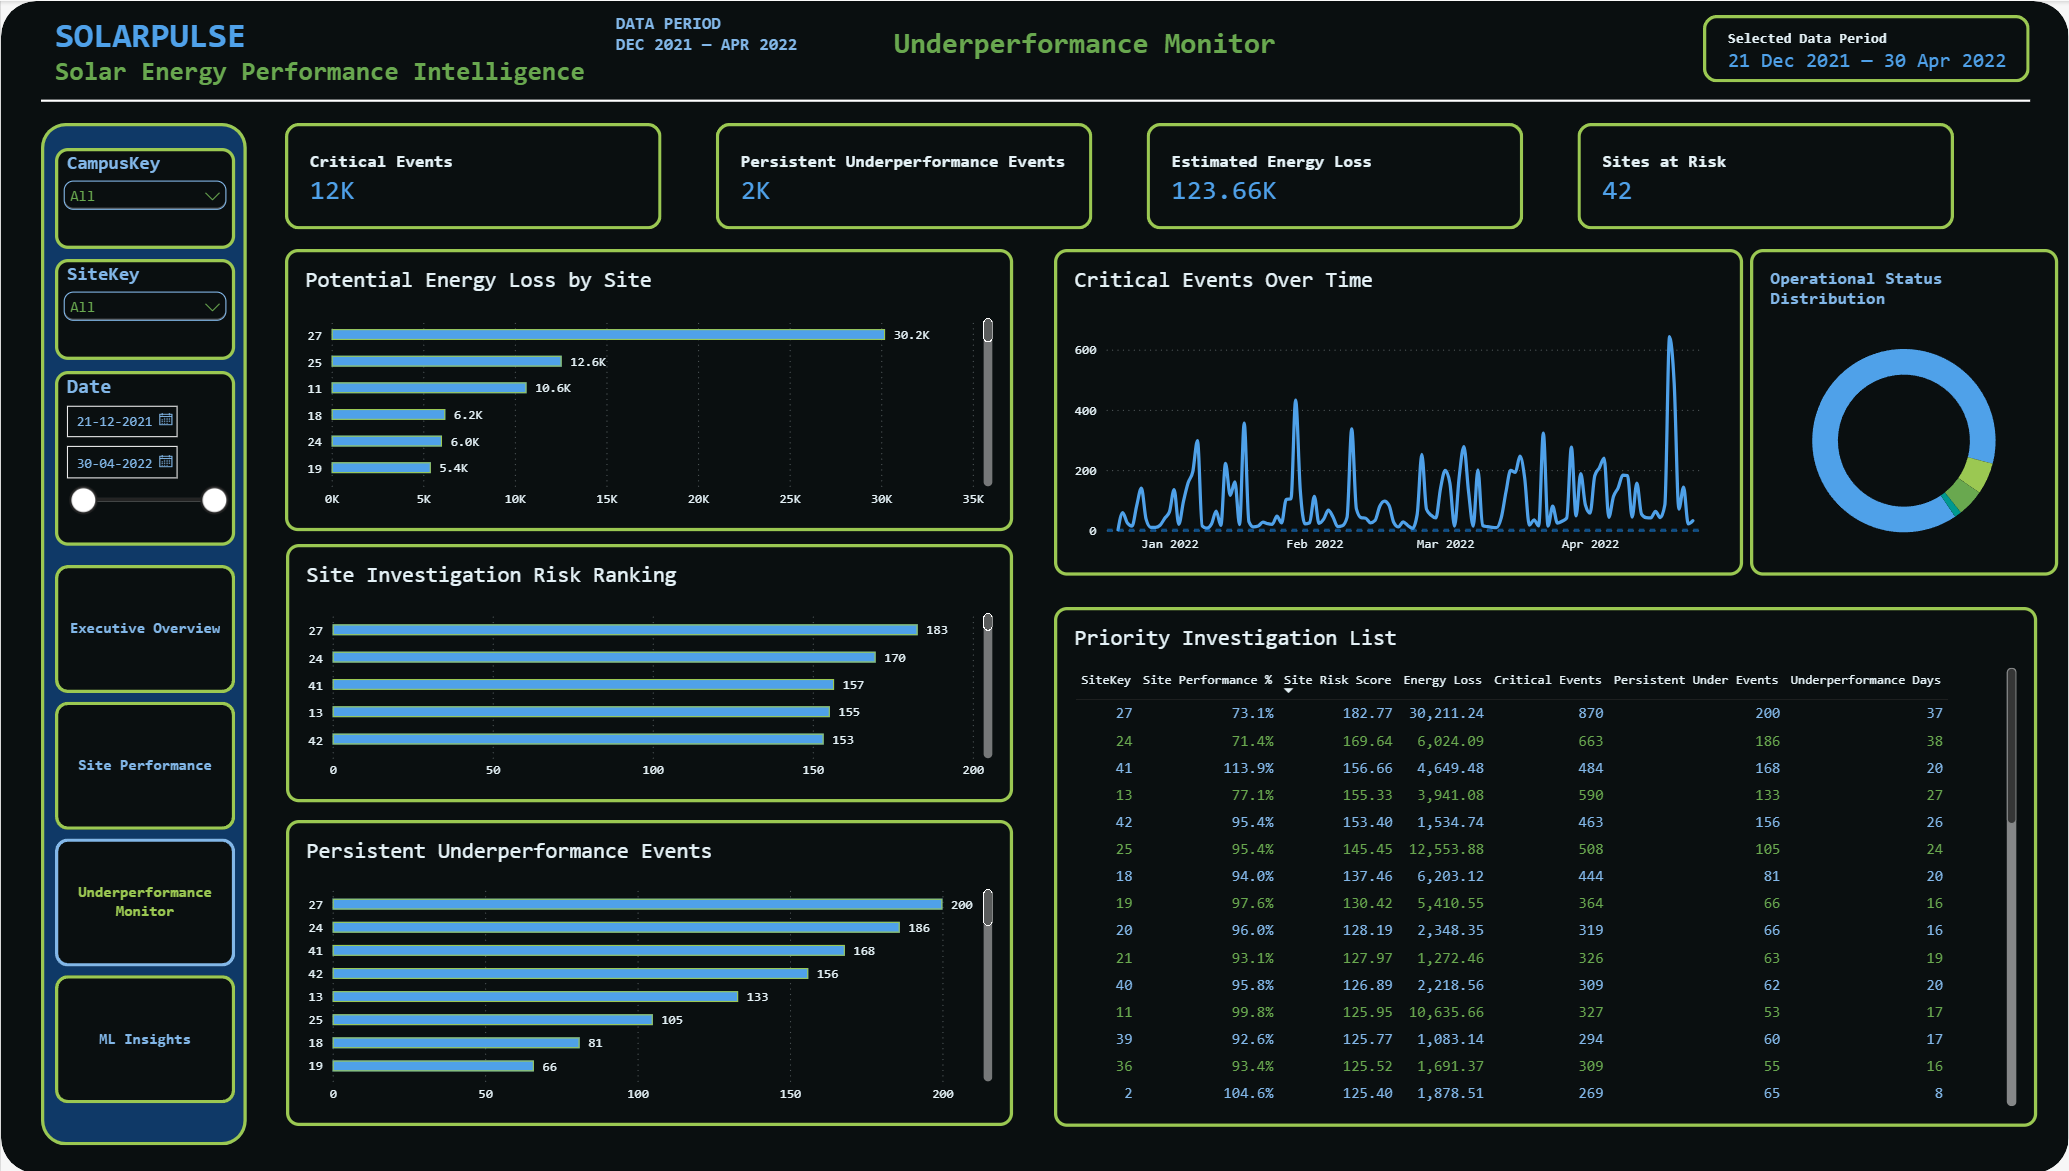

The page's visual inventory and layout, read from the dashboard file:
{"tool":"powerbi","page":{"name":"Underperformance Monitor","canvas":[1920,1080],"ordinal":2},"visuals":[{"type":"shape","box":[0,0,1905.4,1080.1],"z":0},{"type":"textbox","box":[49.6,13.6,590.1,82.6],"z":1000},{"type":"shape","box":[36.9,0,1833.5,183.7],"z":2000},{"type":"cardVisual","fields":{"Data":["All_Measures.Critical Events","All_Measures.Persistent Underperformance Events","All_Measures.Total Energy Loss","All_Measures.Sites at Risk"]},"box":[261.8,112.5,1538.8,98.5],"z":3000},{"type":"shape","box":[36.9,112.8,189.6,942],"z":4000},{"type":"clusteredBarChart","title":"Potential Energy Loss by Site","fields":{"Category":["solar_sites.SiteKey"],"Y":["All_Measures.Total Energy Loss"]},"box":[261.5,228.2,670.8,259.6],"z":5000},{"type":"donutChart","title":"Operational Status Distribution","fields":{"Category":["vw_solar_performance.OperationalStatus"],"Y":["CountNonNull(vw_solar_performance.PerformanceID)"]},"box":[1611.4,228.2,283.7,301.2],"z":6000},{"type":"lineChart","title":"Critical Events Over Time","fields":{"Category":["DateTable.Date.Variation.Date Hierarchy.Year"],"Y":["All_Measures.Critical Events Over Time"]},"box":[970.2,228.2,634.8,301.2],"z":7000},{"type":"barChart","title":"Site Investigation Risk Ranking","fields":{"Category":["solar_sites.SiteKey"],"Y":["All_Measures.Site Risk Score"]},"box":[262.4,500.8,669.9,238.4],"z":8000},{"type":"barChart","title":"Persistent Underperformance Events","fields":{"Category":["solar_sites.SiteKey"],"Y":["All_Measures.Persistent Underperformance Events"]},"box":[262.4,754.9,669.9,281.8],"z":9000},{"type":"tableEx","title":"Priority Investigation List","fields":{"Values":["solar_sites.SiteKey","All_Measures.Site Performance %","All_Measures.Site Risk Score","All_Measures.Total Energy Loss","All_Measures.Critical Events","All_Measures.Persistent Underperformance Events","All_Measures.Days with Underperformance"]},"box":[970.2,558.1,906.4,478.6],"z":10000},{"type":"slicer","title":"Campus Key","fields":{"Values":["solar_sites.CampusKey"]},"box":[49.8,135.3,166.3,93],"z":10001},{"type":"slicer","title":"Campus Key","fields":{"Values":["vw_solar_performance.SiteKey"]},"box":[49.8,237.8,166.3,93],"z":10002},{"type":"slicer","title":"Campus Key","fields":{"Values":["DateTable.Date"]},"box":[49.8,341.1,166.3,160.7],"z":10003},{"type":"textbox","box":[566.7,11.3,227.4,43.2],"z":10004},{"type":"textbox","box":[823.3,23.5,526.3,42.3],"z":10005},{"type":"cardVisual","fields":{"Data":["All_Measures.Selected Data Period"]},"box":[1568.5,13.2,301.7,63],"z":10006},{"type":"pageNavigator","box":[49.8,519.7,166.3,500],"z":10007}]}

Visuals, with their boxes in screenshot pixels (x1, y1, x2, y2), scaled from the page's 1920x1080 canvas onto the 2069x1171 screenshot:
shape: (left=0, top=0, right=2053, bottom=1170)
textbox: (left=53, top=15, right=689, bottom=104)
shape: (left=40, top=0, right=2016, bottom=199)
cardVisual - All_Measures.Critical Events x All_Measures.Persistent Underperformance Events: (left=282, top=122, right=1940, bottom=229)
shape: (left=40, top=122, right=244, bottom=1144)
"Potential Energy Loss by Site" clusteredBarChart: (left=282, top=247, right=1005, bottom=529)
"Operational Status Distribution" donutChart: (left=1736, top=247, right=2042, bottom=574)
"Critical Events Over Time" lineChart: (left=1045, top=247, right=1730, bottom=574)
"Site Investigation Risk Ranking" barChart: (left=283, top=543, right=1005, bottom=801)
"Persistent Underperformance Events" barChart: (left=283, top=819, right=1005, bottom=1124)
"Priority Investigation List" tableEx: (left=1045, top=605, right=2022, bottom=1124)
"Campus Key" slicer: (left=54, top=147, right=233, bottom=248)
"Campus Key" slicer: (left=54, top=258, right=233, bottom=359)
"Campus Key" slicer: (left=54, top=370, right=233, bottom=544)
textbox: (left=611, top=12, right=856, bottom=59)
textbox: (left=887, top=25, right=1454, bottom=71)
cardVisual - All_Measures.Selected Data Period: (left=1690, top=14, right=2015, bottom=83)
pageNavigator: (left=54, top=563, right=233, bottom=1106)
